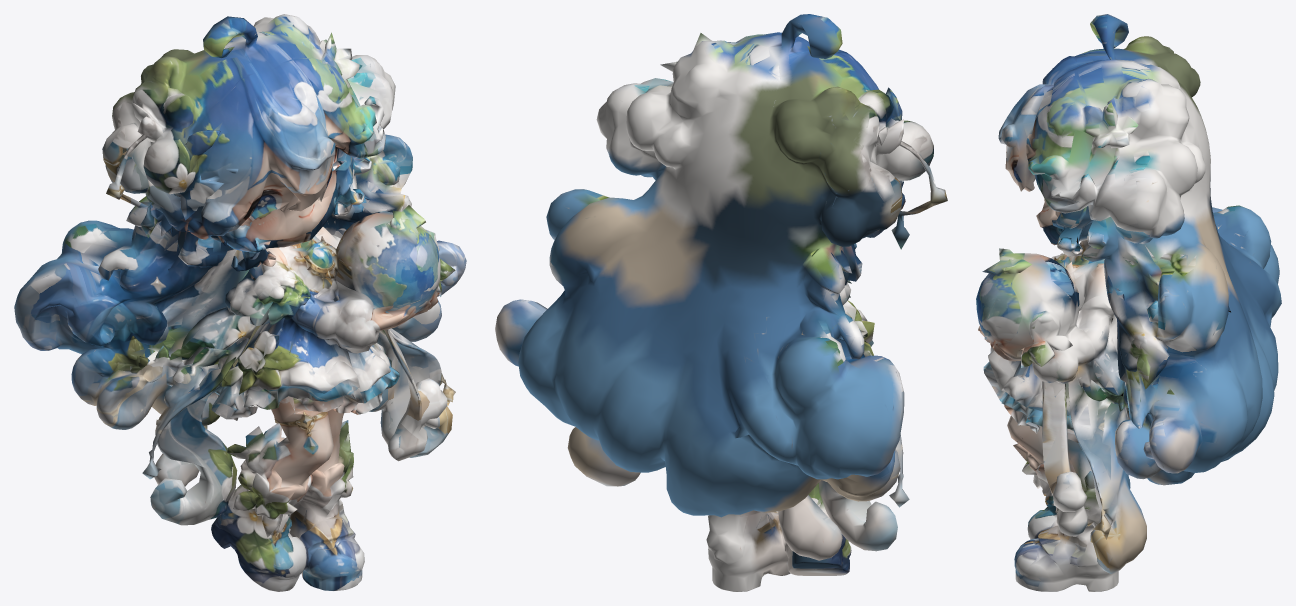
File: earth_painted.glb
3 views of the same model, side by side, from view 1: azimuth 30°, elevation 25°; view 2: azimuth 150°, elevation 25°; view 3: azimuth 270°, elevation 25° (orthographic). The views are drawn at different scales.
Parts seen in each view (by area): view 1: Body; view 2: Body; view 3: Body.
Boxes of the visible parts, x1,y1,x2,y2 form: Body: [14, 14, 466, 591]; Body: [495, 14, 947, 591]; Body: [976, 14, 1281, 591].
Bounding box in the file's own units: 0.7775 × 1 × 0.5211.
2 materials, 2 textured.
